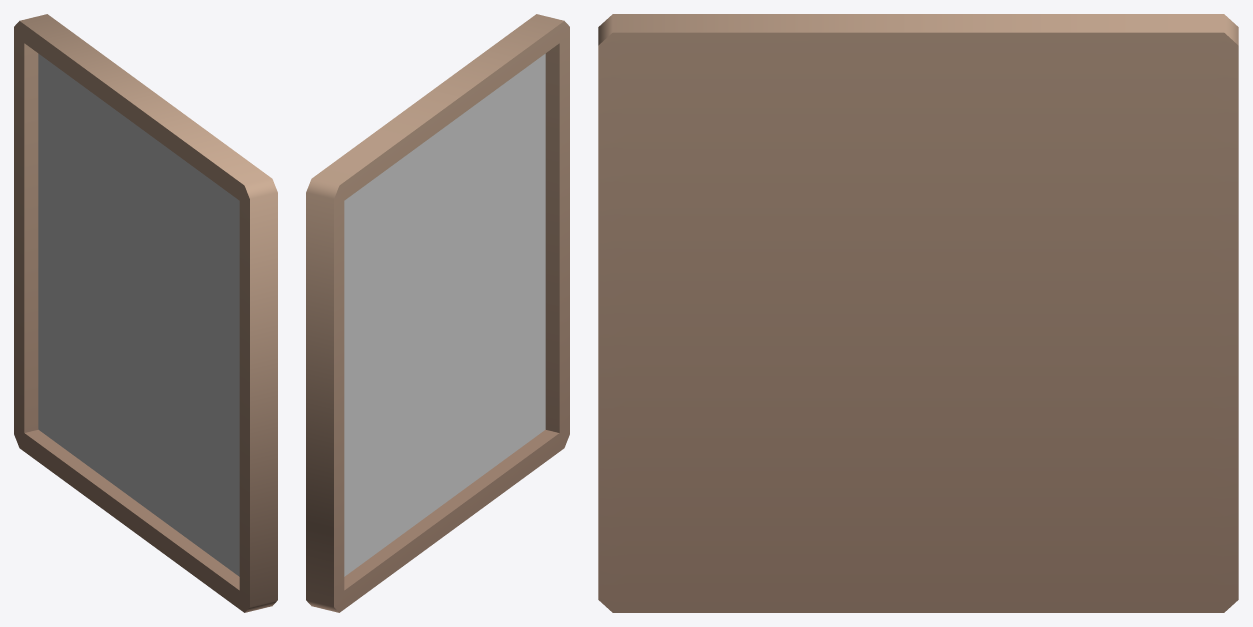
The model's file is art-frame-thin-square (%wall).glb.
3 renders of one model, left to right at view 1: azimuth 30°, elevation 25°; view 2: azimuth 150°, elevation 25°; view 3: azimuth 270°, elevation 25°, orthographic. The views are drawn at different scales.
Parts seen in each view (by area): view 1: art-frame-thin-square (%wall); view 2: art-frame-thin-square (%wall); view 3: art-frame-thin-square (%wall).
Boxes of the visible parts, <box> form: art-frame-thin-square (%wall): <box>14,14,277,612</box>; art-frame-thin-square (%wall): <box>306,14,569,612</box>; art-frame-thin-square (%wall): <box>598,14,1238,612</box>.
Size of the model in its own units: 0.075 by 1.1 by 1.1.
